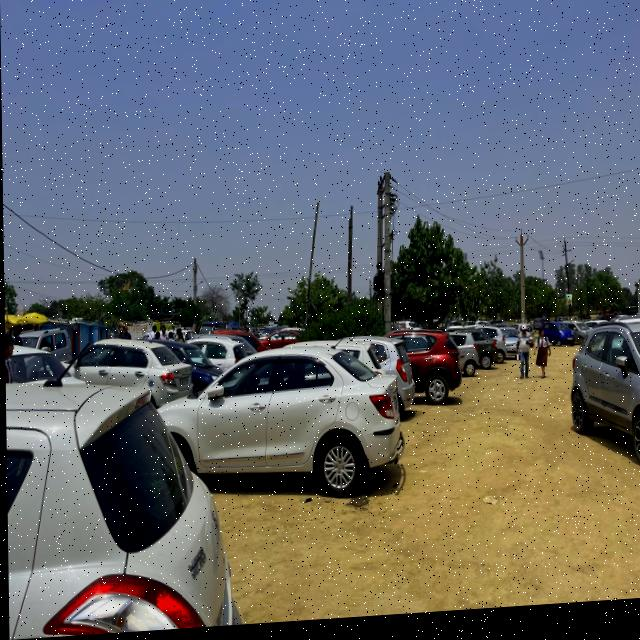car: (4, 354, 237, 640), (170, 346, 408, 508), (568, 307, 640, 497), (77, 327, 190, 411), (380, 319, 463, 423), (345, 331, 415, 425), (5, 345, 85, 389), (13, 320, 75, 363), (191, 335, 243, 378), (447, 329, 480, 393), (228, 326, 266, 360), (543, 326, 571, 361), (260, 333, 300, 356), (482, 329, 503, 372), (565, 326, 588, 355), (501, 331, 519, 368), (584, 327, 607, 336), (532, 323, 542, 339)
